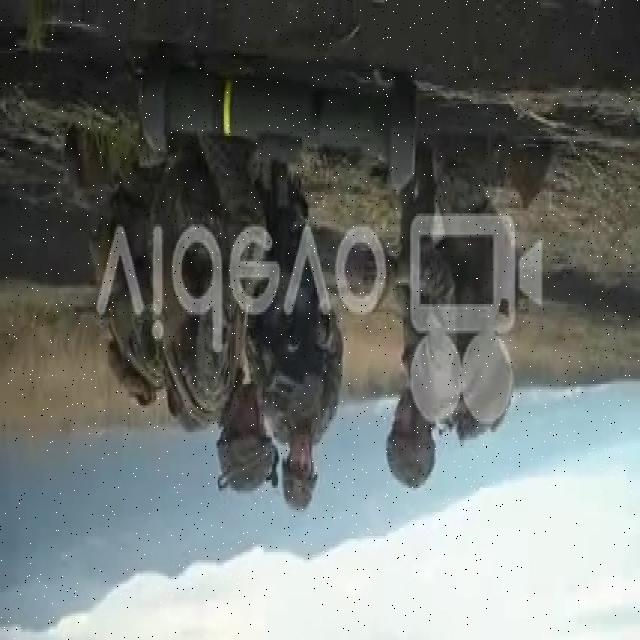bazooka: (133, 70, 427, 199)
